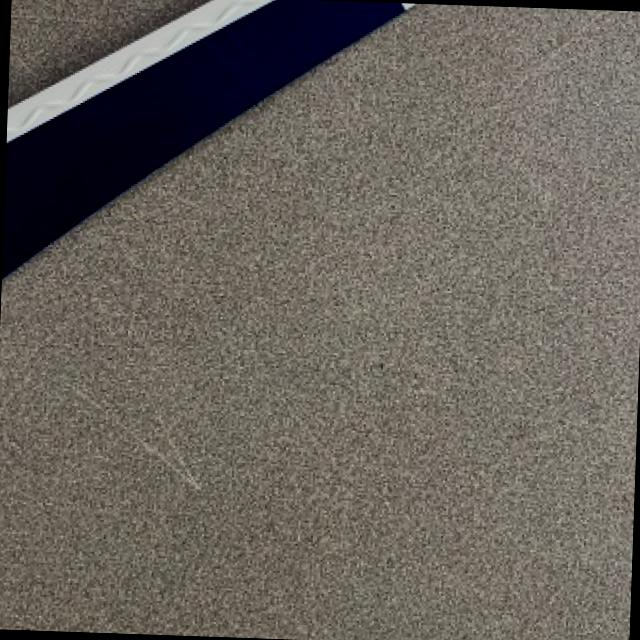healthy: (0, 3, 640, 640)
